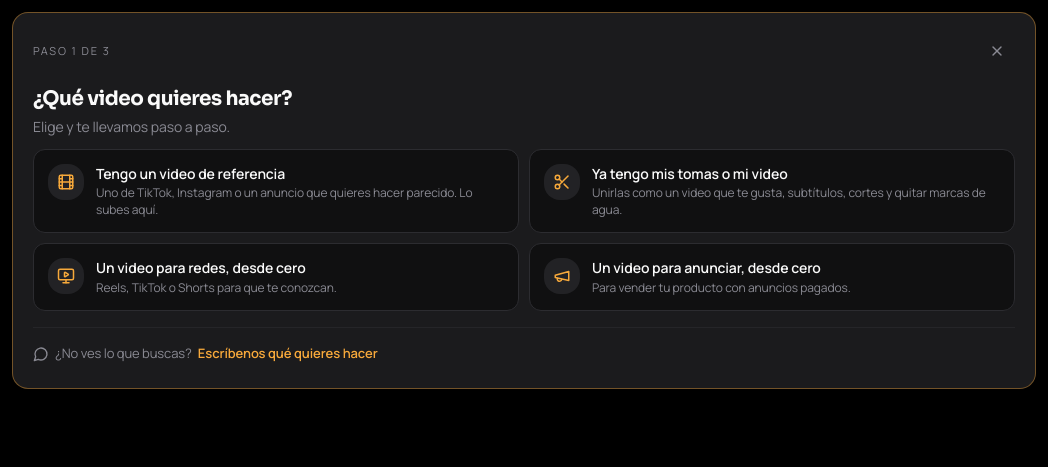
Test: Guía «¿Qué video quieres hacer?» › Atrás vuelve paso a paso y, cerrada, queda el enlace «Te ayudo» para abrirla
This screenshot has width=1048, height=467.
What coordinates should you click on to do the following:
click the button "Un video para redes"
I would click on:
 (276, 277)
Its box is [33,243,519,311].
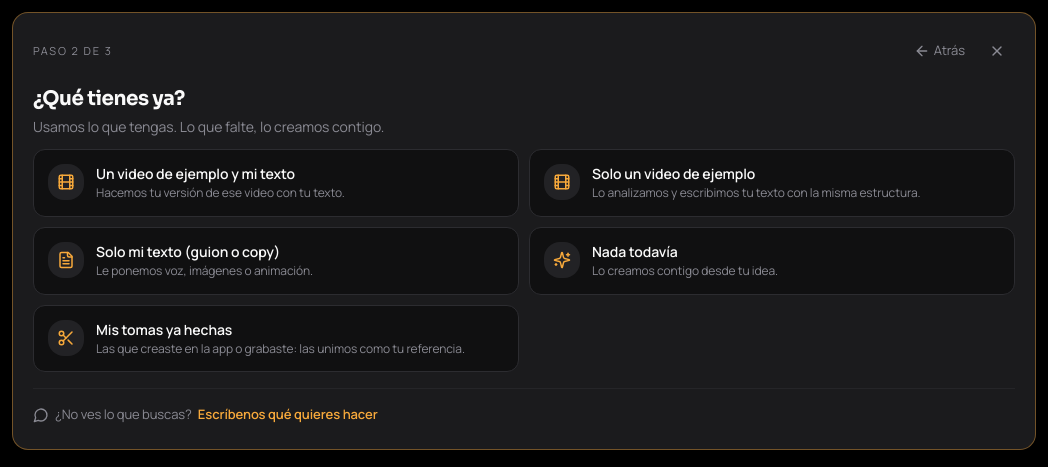
What coordinates should you click on to do the following:
click the button "Solo un video de ejemplo"
I would click on:
 (772, 183)
Its box is [529,149,1015,217].
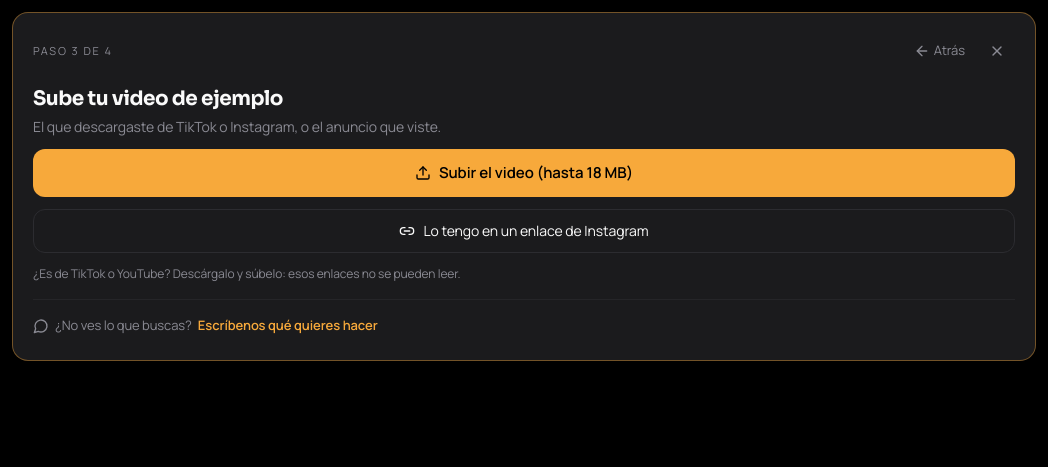
What coordinates should you click on to do the following:
click the button "Atrás"
I would click on:
 (939, 51)
Its box is [904,33,975,69].
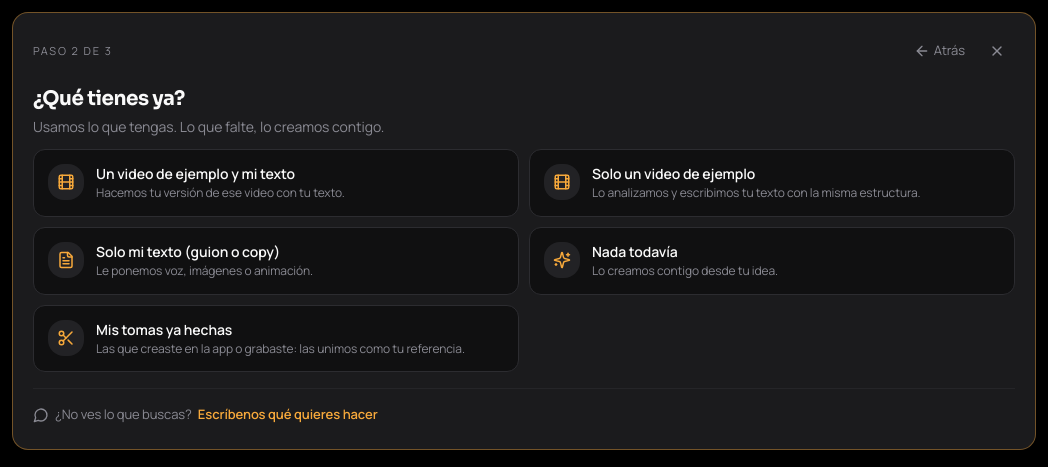
Result: the heading "¿Qué tienes ya?" is shown at [33,86,185,111]
What coordinates should you click on to do the following:
click the button "Atrás"
I would click on:
 (939, 51)
Its box is [904,33,975,69].
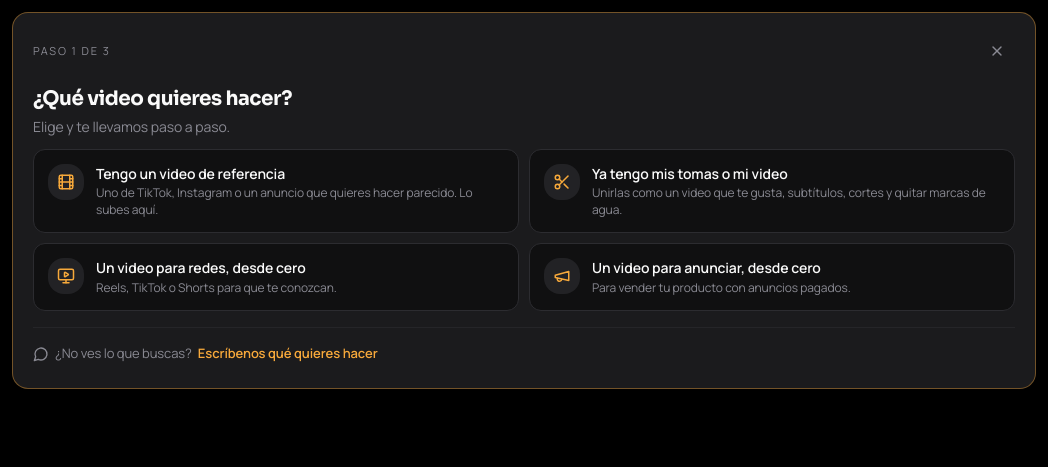
Result: the heading "¿Qué video quieres hacer?" is shown at [33,86,292,111]
What coordinates should you click on to do the following:
click the button named "Cerrar la guía"
I would click on:
 (997, 51)
Its box is [979,33,1015,69].
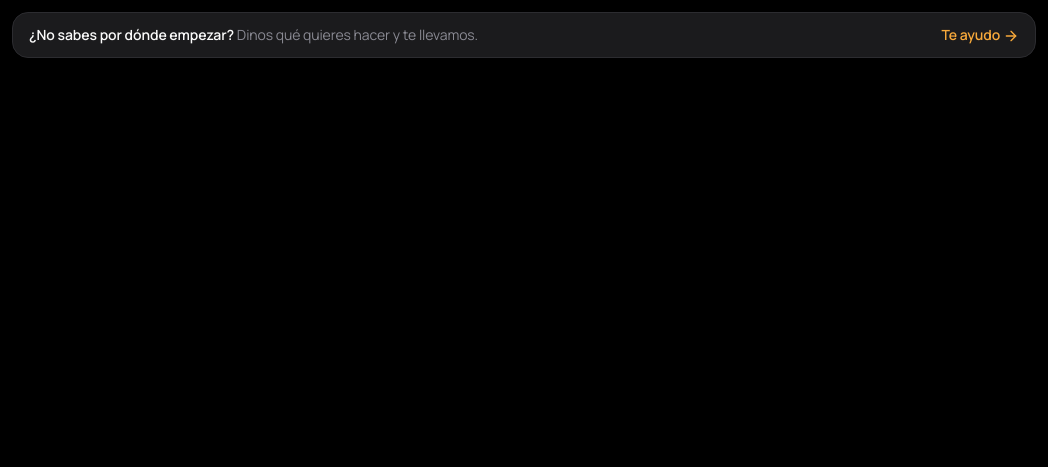
What coordinates should you click on to do the following:
click the button "No sabes por dónde empezar"
I would click on:
 (132, 34)
Its box is [12,12,1036,58].
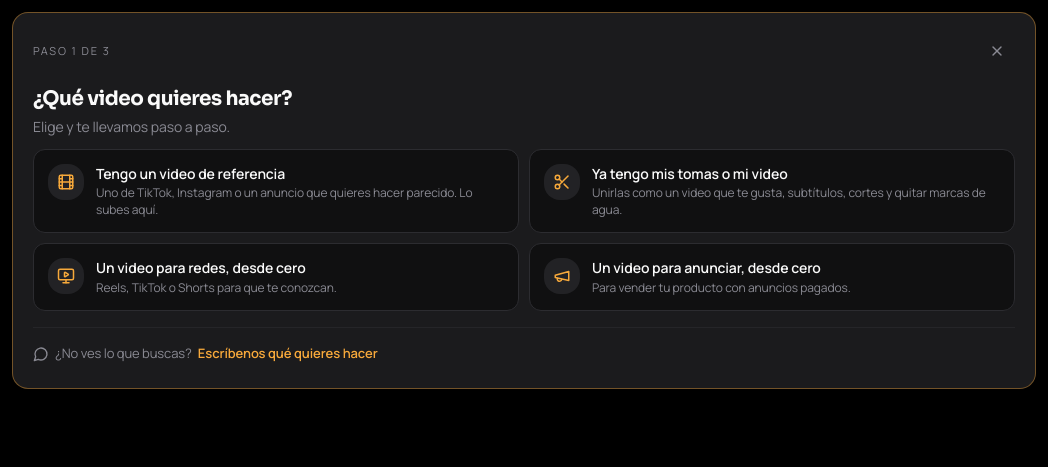
Result: the heading "¿Qué video quieres hacer?" is shown at [33,86,292,111]
